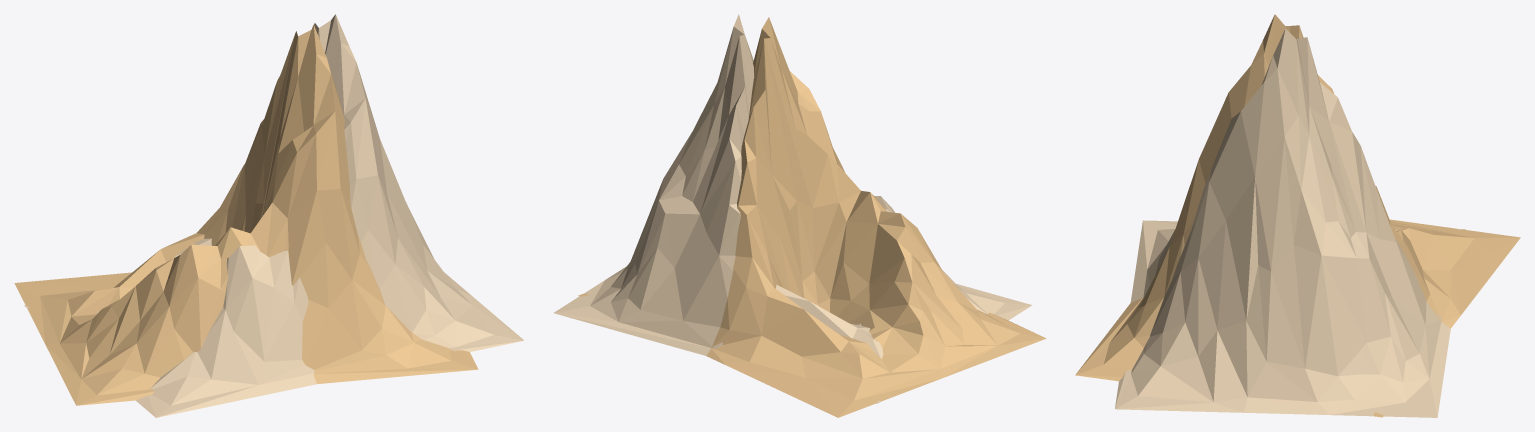
File: mount7_00008.fbx
3 views of the same model, side by side, from view 1: azimuth 30°, elevation 25°; view 2: azimuth 150°, elevation 25°; view 3: azimuth 270°, elevation 25° (orthographic). The views are drawn at different scales.
Parts seen in each view (by area): view 1: mount7; view 2: mount7; view 3: mount7.
Boxes of the visible parts, <box> form: mount7: <box>14,14,523,417</box>; mount7: <box>553,14,1046,417</box>; mount7: <box>1075,14,1520,417</box>.
Bounding box in the file's own units: 4302 × 2908 × 3641.
